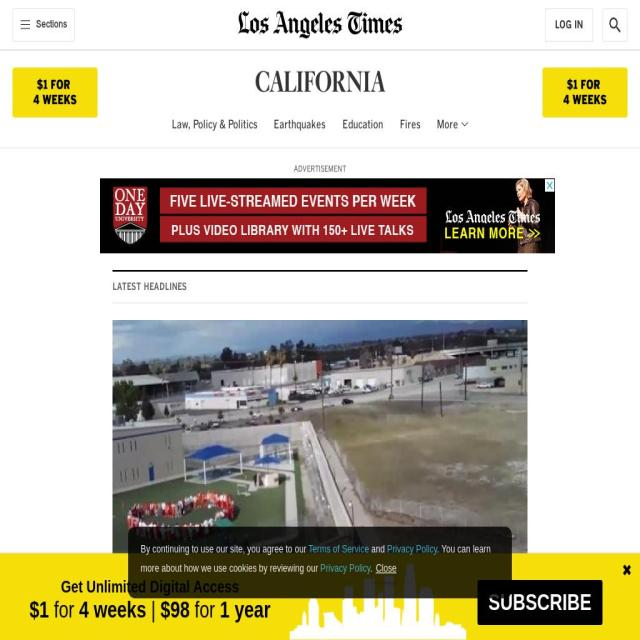button: (112, 320, 528, 640), (478, 580, 602, 625), (237, 10, 403, 39), (12, 68, 98, 118), (542, 68, 628, 118), (13, 8, 75, 42), (545, 8, 593, 42), (602, 8, 628, 42), (372, 555, 397, 582)
heading: (255, 67, 385, 101)
iframe: (100, 178, 555, 254)
image: (112, 320, 528, 640), (237, 10, 403, 39), (608, 14, 622, 35), (20, 18, 30, 31), (459, 122, 467, 136)
link: (488, 589, 591, 615), (172, 119, 258, 131), (308, 543, 369, 555), (274, 119, 326, 131), (320, 562, 371, 574), (387, 543, 437, 555), (343, 119, 383, 131), (400, 119, 420, 131)
text: (112, 270, 528, 303), (141, 543, 491, 574), (25, 576, 275, 596), (100, 165, 540, 174), (140, 543, 308, 555), (74, 596, 151, 622), (215, 596, 271, 622), (156, 596, 195, 622), (555, 8, 583, 42), (30, 596, 54, 622), (194, 596, 216, 622), (54, 596, 75, 622), (36, 18, 68, 30), (437, 118, 459, 131), (368, 543, 388, 555), (150, 596, 156, 622), (370, 562, 372, 574)
